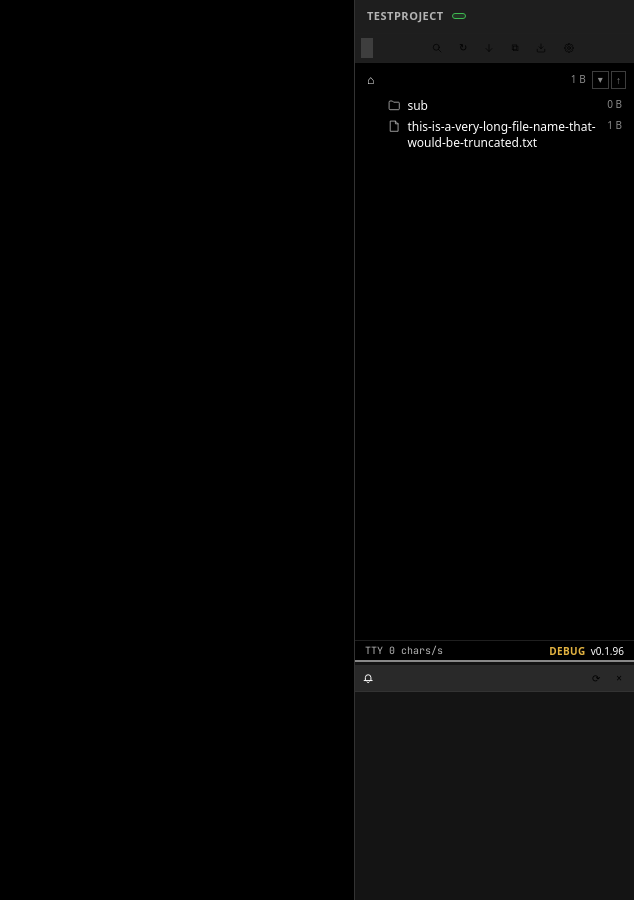
Test: file tree navigation › #2 shows the full file name in the hover tooltip, not a title attribute
The width and height of the screenshot is (634, 900).
Expected: the text "this-is-a-very-long-file-name-that-would-be-truncated.txt" is shown, [407,118,596,151]
Step 1. Hover over the text "this-is-a-very-long-file-name-that-would-be-truncated.txt" → (494, 135), box [359,116,630,153]
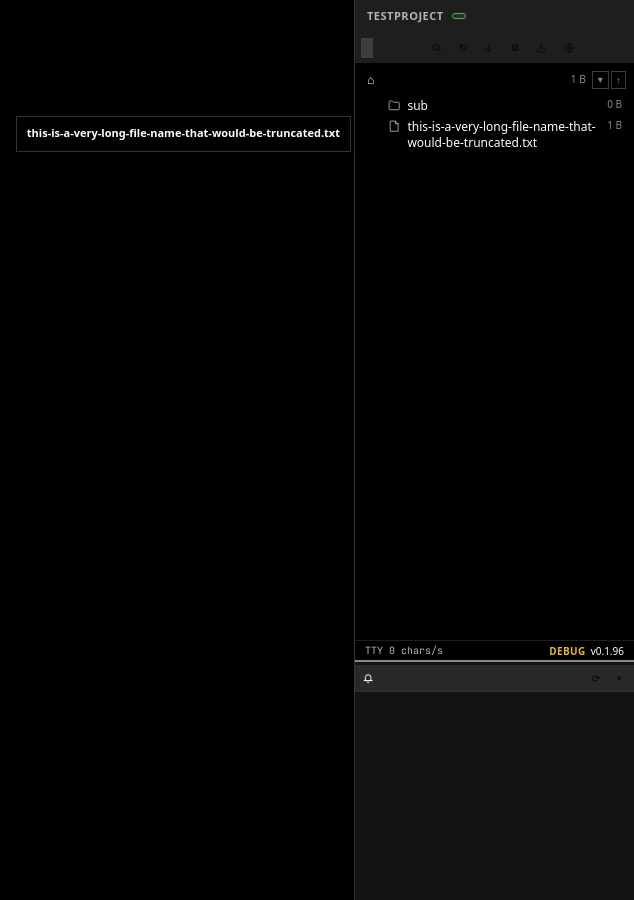
Now the 1st text "this-is-a-very-long-file-name-that-would-be-truncated.txt" is shown, box [27,123,340,143]
